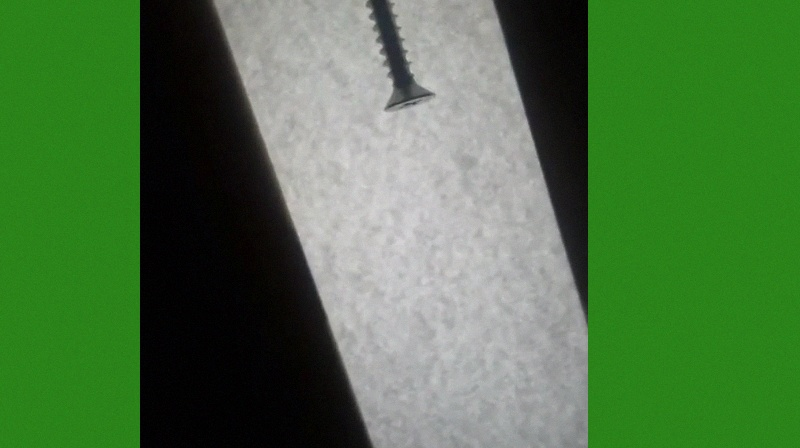S001: (353, 0, 440, 115)
